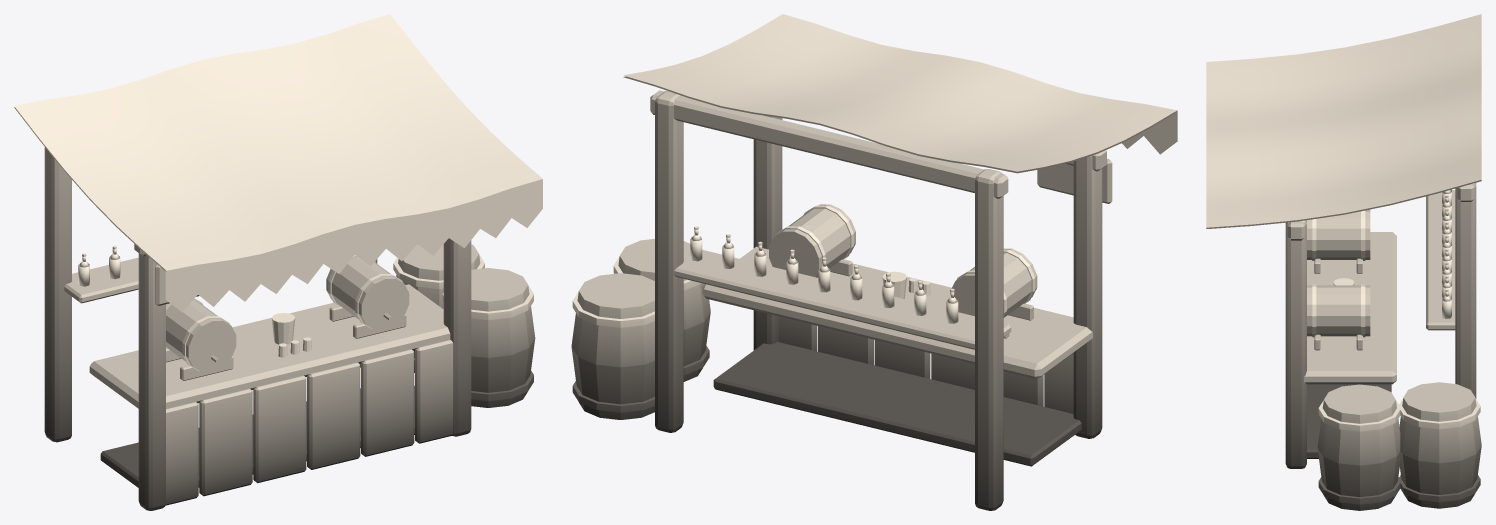
Rendered from SM_VK_MarketStall_Vintner.fbx.
3 renders of one model, left to right at view 1: azimuth 30°, elevation 25°; view 2: azimuth 150°, elevation 25°; view 3: azimuth 270°, elevation 25°, orthographic. The views are drawn at different scales.
Parts seen in each view (by area): view 1: SM_VK_MarketStall_Vintner.001; view 2: SM_VK_MarketStall_Vintner.001; view 3: SM_VK_MarketStall_Vintner.001.
Boxes of the visible parts, x1=… form: SM_VK_MarketStall_Vintner.001: x1=14, y1=14, x2=542, y2=510; SM_VK_MarketStall_Vintner.001: x1=571, y1=14, x2=1177, y2=510; SM_VK_MarketStall_Vintner.001: x1=1206, y1=14, x2=1481, y2=510.
Size of the model in its own units: 4.4 by 3.15 by 2.6.
